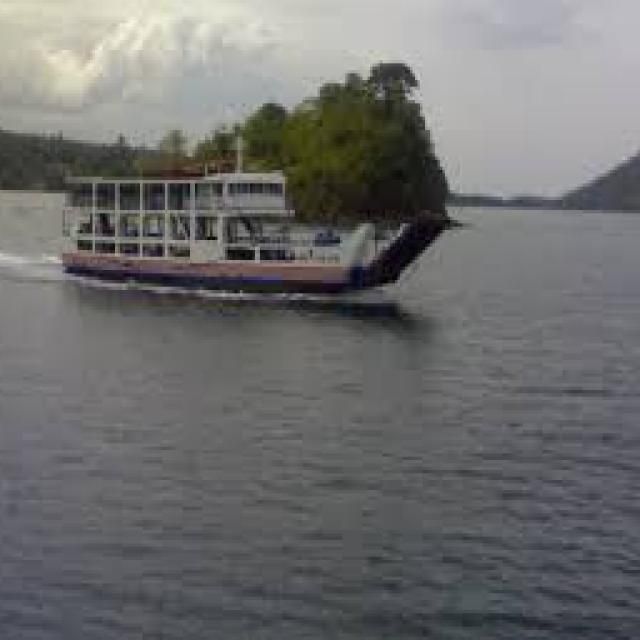passenger ship: (61, 146, 440, 292)
